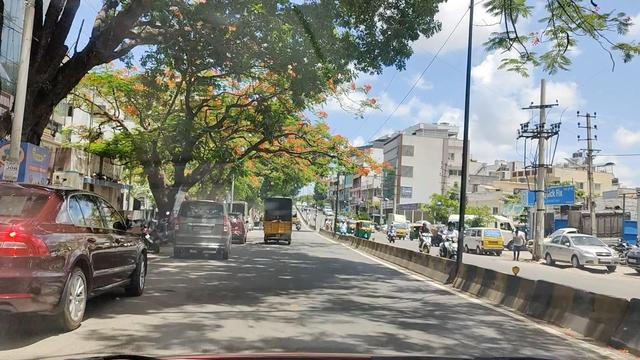HMV: (260, 196, 301, 243)
LMV: (179, 199, 227, 251)
